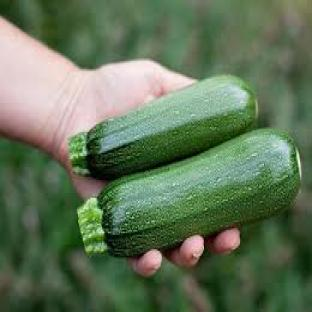Zucchini: (78, 129, 301, 257), (69, 76, 256, 178)
